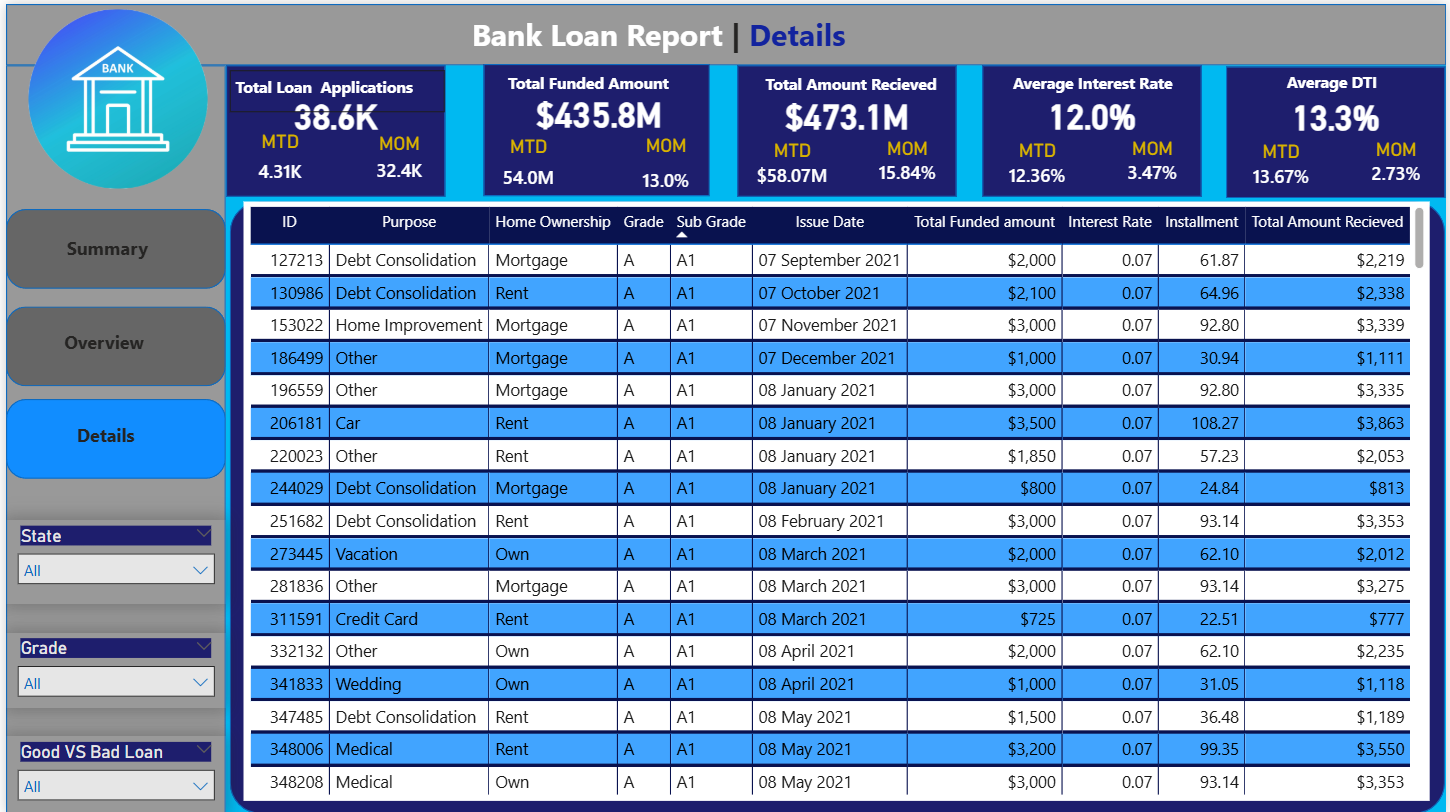

The dashboard page shown, as its layout file describes it:
{"tool":"powerbi","page":{"name":"Details","canvas":[1280,720],"ordinal":2},"visuals":[{"type":"shape","box":[195.3,54.7,195,117],"z":0,"group":"g1"},{"type":"shape","box":[650,54.7,195,117],"z":0,"group":"g2"},{"type":"shape","box":[867.4,54.7,195,117],"z":0,"group":"g3"},{"type":"shape","box":[1084.9,55.8,195,117],"z":0,"group":"g4"},{"type":"shape","box":[198.8,175.6,1080.2,544.2],"z":0},{"type":"shape","box":[0,54.7,195.3,665.1],"z":1000},{"type":"card","fields":{"Values":["banking.Total Loan Applications"]},"box":[220.9,73.3,144.2,50],"z":1000,"group":"g1"},{"type":"card","fields":{"Values":["banking.Total Amount Recieved"]},"box":[675.6,73.3,144.2,50],"z":1000,"group":"g2"},{"type":"card","fields":{"Values":["banking.Average Int rate"]},"box":[893,73.3,144.2,50],"z":1000,"group":"g3"},{"type":"card","fields":{"Values":["banking.Average DTI"]},"box":[1110.5,74.4,144.2,50],"z":1000,"group":"g4"},{"type":"shape","box":[0,0,1280.2,54.7],"z":2000},{"type":"textbox","box":[1133.4,54.7,114,34.9],"z":2000,"group":"g4"},{"type":"textbox","box":[889.1,55.3,177.9,40.7],"z":2000,"group":"g3"},{"type":"textbox","box":[669.7,56.9,177.9,40.7],"z":2000,"group":"g2"},{"type":"textbox","box":[198.6,58.9,191.2,37.5],"z":2000,"group":"g1"},{"type":"shape","box":[424.4,53.5,201.2,117.4],"z":3000},{"type":"card","title":"MTD","fields":{"Values":["banking.MTD Loan Applications"]},"box":[210,112.1,67.4,58.1],"z":3000,"group":"g1"},{"type":"card","title":"MTD","fields":{"Values":["banking.MTD Amount Recieved"]},"box":[660.4,119.8,77.9,50],"z":3000,"group":"g2"},{"type":"card","title":"MTD","fields":{"Values":["banking.MTD Int Rate"]},"box":[877.8,119.8,77.9,50],"z":3000,"group":"g3"},{"type":"card","title":"MTD","fields":{"Values":["banking.MTD DTI"]},"box":[1095.3,120.9,77.9,50],"z":3000,"group":"g4"},{"type":"card","fields":{"Values":["banking.Total funded amount"]},"box":[440.7,64,172.1,65.1],"z":4000},{"type":"card","title":"MOM","fields":{"Values":["banking.MOM Amount Recieved"]},"box":[759.2,118.5,84.9,48.8],"z":4000,"group":"g2"},{"type":"card","title":"MOM","fields":{"Values":["banking.MOM Int Rate"]},"box":[976.6,118.5,84.9,48.8],"z":4000,"group":"g3"},{"type":"card","title":"MOM","fields":{"Values":["banking.MOM DTI"]},"box":[1194.1,119.6,84.9,48.8],"z":4000,"group":"g4"},{"type":"textbox","box":[409.3,3.5,439.5,50],"z":5000},{"type":"textbox","box":[440.7,55.8,170.9,36],"z":6000},{"type":"group","id":"g1","title":"Group 1","box":[195.3,54.7,195,117],"z":7000},{"type":"card","title":"MTD","fields":{"Values":["banking.MTD Funded Amount"]},"box":[424.4,116.3,80.2,59.3],"z":8000},{"type":"card","title":"MOM","fields":{"Values":["banking.MOM Funded Amount"]},"box":[547.7,115.1,77.9,67.4],"z":9000},{"type":"card","title":"MOM","fields":{"Values":["banking.MOM Applications"]},"box":[317.4,112.8,64,54.7],"z":10000},{"type":"group","id":"g2","title":"Group 1","box":[650,54.7,197.7,117.4],"z":11000},{"type":"group","id":"g3","title":"Group 1","box":[867.4,54.7,200,117.4],"z":12000},{"type":"group","id":"g4","title":"Group 1","box":[1084.9,54.7,195.3,118.6],"z":13000},{"type":"slicer","fields":{"Values":["banking.address_state"]},"box":[0,459.3,195.3,74.4],"z":14000},{"type":"slicer","fields":{"Values":["banking.grade"]},"box":[0,559.3,195.3,67.4],"z":15000},{"type":"slicer","fields":{"Values":["banking.Good vs bad loan"]},"box":[0,651.2,195.3,68.6],"z":16000},{"type":"tableEx","fields":{"Values":["Sum(banking.id)","banking.purpose","banking.home_ownership","banking.Grade","banking.Sub_grade","banking.Issue_date","banking.Total Funded amount","Sum(banking.Int_rate)","Sum(banking.installment)","banking.Total Amount Recieved"]},"box":[211.6,175.6,1054.7,532.6],"z":17000},{"type":"shape","box":[0,351.2,195.3,70.9],"z":18000},{"type":"shape","box":[0,268.6,195.3,70.9],"z":19000},{"type":"shape","box":[0,182.6,195.3,70.9],"z":20000},{"type":"image","box":[0,0,198.8,168.6],"z":21000},{"type":"textbox","box":[48.8,201.2,97.7,38.4],"z":22000},{"type":"textbox","box":[46.5,284.9,105.8,38.4],"z":23000},{"type":"textbox","box":[58.1,366.3,88.4,40.7],"z":24000},{"type":"shape","box":[23.3,189.5,146.5,64],"z":25000}]}

Visuals, with their boxes in screenshot pixels (x1, y1, x2, y2), scaled from the page's 1280x720 canvas onto the 1450x812 screenshot:
shape: [left=221, top=62, right=442, bottom=194]
shape: [left=736, top=62, right=957, bottom=194]
shape: [left=983, top=62, right=1204, bottom=194]
shape: [left=1229, top=63, right=1449, bottom=195]
shape: [left=225, top=198, right=1449, bottom=811]
shape: [left=0, top=62, right=221, bottom=811]
card - banking.Total Loan Applications: [left=250, top=83, right=414, bottom=139]
card - banking.Total Amount Recieved: [left=765, top=83, right=929, bottom=139]
card - banking.Average Int rate: [left=1012, top=83, right=1175, bottom=139]
card - banking.Average DTI: [left=1258, top=84, right=1421, bottom=140]
shape: [left=0, top=0, right=1449, bottom=62]
textbox: [left=1284, top=62, right=1413, bottom=101]
textbox: [left=1007, top=62, right=1209, bottom=108]
textbox: [left=759, top=64, right=960, bottom=110]
textbox: [left=225, top=66, right=442, bottom=109]
shape: [left=481, top=60, right=709, bottom=193]
"MTD" card: [left=238, top=126, right=314, bottom=192]
"MTD" card: [left=748, top=135, right=836, bottom=191]
"MTD" card: [left=994, top=135, right=1083, bottom=191]
"MTD" card: [left=1241, top=136, right=1329, bottom=193]
card - banking.Total funded amount: [left=499, top=72, right=694, bottom=146]
"MOM" card: [left=860, top=134, right=956, bottom=189]
"MOM" card: [left=1106, top=134, right=1202, bottom=189]
"MOM" card: [left=1353, top=135, right=1449, bottom=190]
textbox: [left=464, top=4, right=962, bottom=60]
textbox: [left=499, top=63, right=693, bottom=104]
"Group 1" group: [left=221, top=62, right=442, bottom=194]
"MTD" card: [left=481, top=131, right=572, bottom=198]
"MOM" card: [left=620, top=130, right=709, bottom=206]
"MOM" card: [left=360, top=127, right=432, bottom=189]
"Group 1" group: [left=736, top=62, right=960, bottom=194]
"Group 1" group: [left=983, top=62, right=1209, bottom=194]
"Group 1" group: [left=1229, top=62, right=1449, bottom=195]
slicer - banking.address_state: [left=0, top=518, right=221, bottom=602]
slicer - banking.grade: [left=0, top=631, right=221, bottom=707]
slicer - banking.Good vs bad loan: [left=0, top=734, right=221, bottom=811]
tableEx - Sum(banking.id) x banking.purpose: [left=240, top=198, right=1434, bottom=799]
shape: [left=0, top=396, right=221, bottom=476]
shape: [left=0, top=303, right=221, bottom=383]
shape: [left=0, top=206, right=221, bottom=286]
image: [left=0, top=0, right=225, bottom=190]
textbox: [left=55, top=227, right=166, bottom=270]
textbox: [left=53, top=321, right=173, bottom=365]
textbox: [left=66, top=413, right=166, bottom=459]
shape: [left=26, top=214, right=192, bottom=286]
